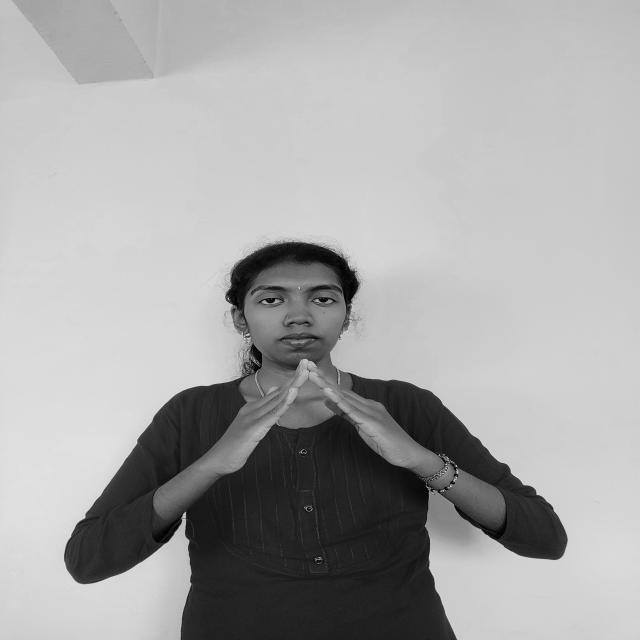Home: (191, 350, 430, 484)
